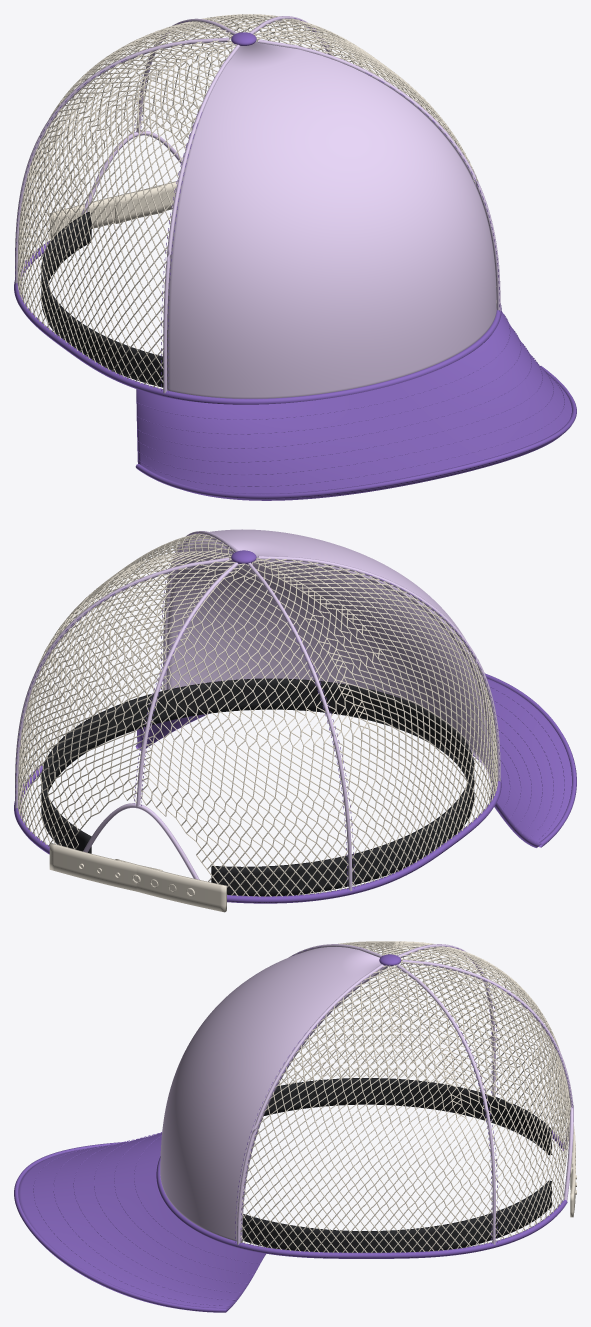
The model's file is trucker-lilac.glb.
3 renders of one model, top to bottom at view 1: azimuth 30°, elevation 25°; view 2: azimuth 150°, elevation 25°; view 3: azimuth 270°, elevation 25°, orthographic. The views are drawn at different scales.
Parts seen in each view (by area): view 1: Front panel / color / complete construction, Brim / color / complete construction, Open mesh / color / complete construction, Interior sweatband / complete construction, Topstitch / color / complete construction, Snapback / color / complete construction; view 2: Open mesh / color / complete construction, Front panel / color / complete construction, Interior sweatband / complete construction, Brim / color / complete construction, Snapback / color / complete construction, Topstitch / color / complete construction; view 3: Open mesh / color / complete construction, Front panel / color / complete construction, Brim / color / complete construction, Interior sweatband / complete construction, Topstitch / color / complete construction.
Boxes of the visible parts, bbox=[...] form: Front panel / color / complete construction: bbox=[15, 16, 500, 398]; Brim / color / complete construction: bbox=[14, 32, 576, 500]; Open mesh / color / complete construction: bbox=[17, 14, 496, 389]; Interior sweatband / complete construction: bbox=[41, 212, 163, 387]; Topstitch / color / complete construction: bbox=[15, 18, 564, 486]; Snapback / color / complete construction: bbox=[49, 181, 177, 238]; Open mesh / color / complete construction: bbox=[18, 533, 497, 896]; Front panel / color / complete construction: bbox=[15, 529, 500, 891]; Interior sweatband / complete construction: bbox=[41, 678, 474, 896]; Brim / color / complete construction: bbox=[14, 550, 576, 903]; Snapback / color / complete construction: bbox=[49, 843, 226, 912]; Topstitch / color / complete construction: bbox=[15, 532, 564, 889]; Open mesh / color / complete construction: bbox=[240, 941, 570, 1253]; Front panel / color / complete construction: bbox=[160, 944, 573, 1244]; Brim / color / complete construction: bbox=[14, 954, 567, 1312]; Interior sweatband / complete construction: bbox=[242, 1078, 551, 1252]; Topstitch / color / complete construction: bbox=[33, 946, 572, 1306].
Bounding box in the file's own units: 0.2024 × 0.1506 × 0.2816.
